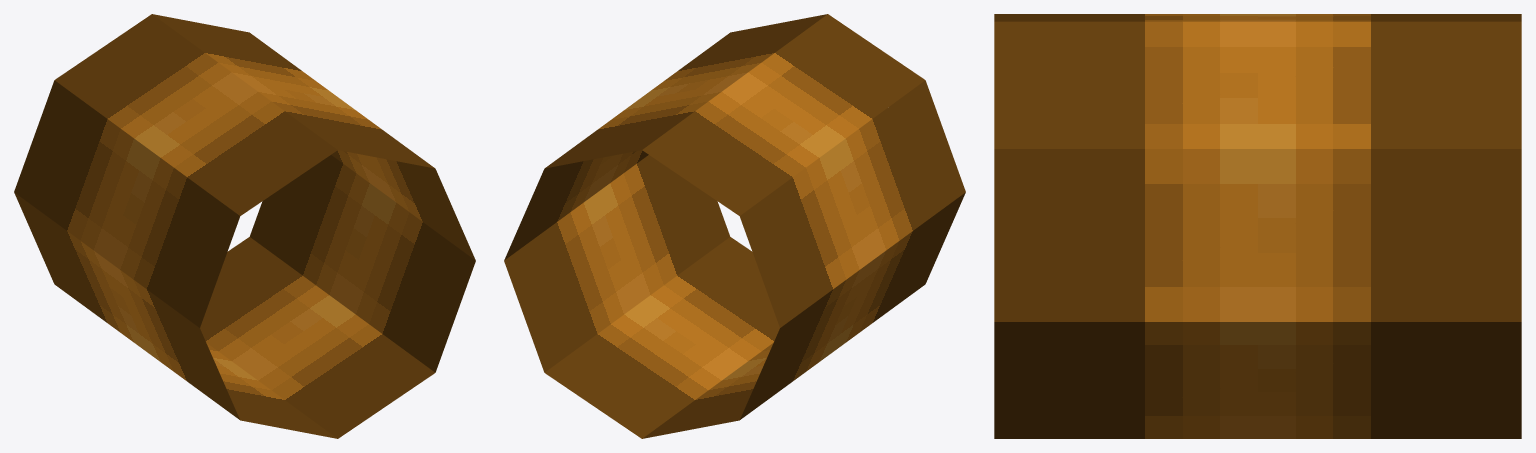
Rendered from ss_pipe_straight_2f_prone.obj.
3 views of the same model, side by side, from view 1: azimuth 30°, elevation 25°; view 2: azimuth 150°, elevation 25°; view 3: azimuth 270°, elevation 25° (orthographic). The views are drawn at different scales.
Parts seen in each view (by area): view 1: ss_pipe_straight_2f_prone_Cylinder.002; view 2: ss_pipe_straight_2f_prone_Cylinder.002; view 3: ss_pipe_straight_2f_prone_Cylinder.002.
Boxes of the visible parts, x1,y1,x2,y2 form: ss_pipe_straight_2f_prone_Cylinder.002: (14,14,475,438); ss_pipe_straight_2f_prone_Cylinder.002: (504,14,965,438); ss_pipe_straight_2f_prone_Cylinder.002: (994,14,1521,438).
Size of the model in its own units: 0.75 by 0.75 by 0.875.
